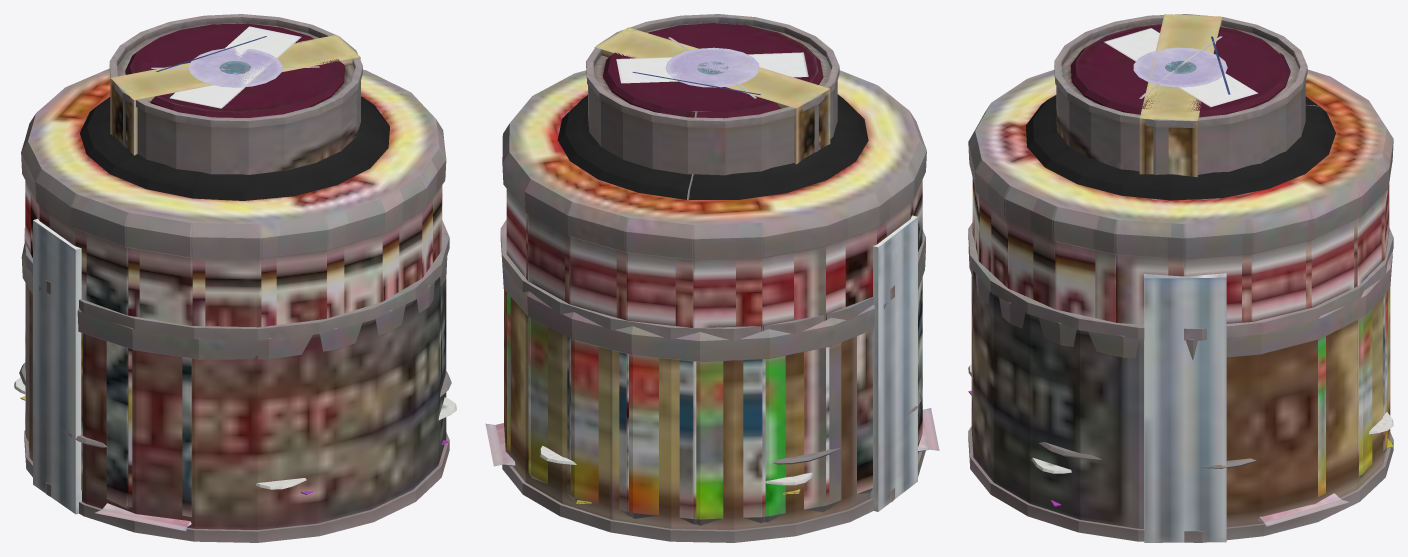
The model's file is r32_essen.glb.
3 views of the same model, side by side, from view 1: azimuth 30°, elevation 25°; view 2: azimuth 150°, elevation 25°; view 3: azimuth 270°, elevation 25° (orthographic).
Parts seen in each view (by area): view 1: eingelegte_gurken, eintopf, kuerbissuppe, marmelade, konservendose, schmerzmittel, fischsuppe, kaffee, antibiotika, milch, muesliriegel, doerrfleisch; view 2: kuerbissuppe, eingelegte_gurken, fischsuppe, eintopf, marmelade, konservendose, schmerzmittel, kaffee, milch, antibiotika, muesliriegel, doerrfleisch; view 3: eingelegte_gurken, kuerbissuppe, schmerzmittel, marmelade, konservendose, eintopf, fischsuppe, kaffee, milch, antibiotika, muesliriegel, raeucherfisch (+1 smaller).
Boxes of the visible parts, bbox=[...] form: eingelegte_gurken: bbox=[24, 220, 449, 542]; eintopf: bbox=[21, 93, 445, 517]; kuerbissuppe: bbox=[21, 68, 446, 508]; marmelade: bbox=[80, 23, 389, 200]; konservendose: bbox=[109, 14, 362, 174]; schmerzmittel: bbox=[33, 219, 81, 514]; fischsuppe: bbox=[21, 243, 447, 490]; kaffee: bbox=[110, 35, 360, 155]; antibiotika: bbox=[169, 26, 301, 108]; milch: bbox=[188, 48, 282, 87]; muesliriegel: bbox=[95, 503, 191, 531]; doerrfleisch: bbox=[14, 377, 456, 489]; kuerbissuppe: bbox=[502, 70, 926, 524]; eingelegte_gurken: bbox=[500, 219, 925, 542]; fischsuppe: bbox=[502, 248, 925, 525]; eintopf: bbox=[502, 71, 926, 523]; marmelade: bbox=[557, 23, 868, 199]; konservendose: bbox=[586, 14, 839, 175]; schmerzmittel: bbox=[870, 215, 917, 511]; kaffee: bbox=[594, 27, 830, 164]; milch: bbox=[665, 47, 759, 87]; antibiotika: bbox=[616, 52, 808, 83]; muesliriegel: bbox=[485, 408, 939, 466]; doerrfleisch: bbox=[539, 445, 812, 485]; eingelegte_gurken: bbox=[968, 222, 1393, 542]; kuerbissuppe: bbox=[968, 69, 1393, 476]; schmerzmittel: bbox=[1144, 273, 1226, 542]; marmelade: bbox=[1025, 24, 1335, 200]; konservendose: bbox=[1054, 14, 1307, 174]; eintopf: bbox=[968, 74, 1393, 451]; fischsuppe: bbox=[968, 246, 1392, 497]; kaffee: bbox=[1139, 14, 1221, 177]; milch: bbox=[1133, 47, 1227, 87]; antibiotika: bbox=[1104, 28, 1257, 107]; muesliriegel: bbox=[1258, 493, 1349, 526]; raeucherfisch: bbox=[1039, 442, 1256, 468].
Size of the model in its own units: 1 by 1 by 1.
Materials: 2 (2 with a texture image).
